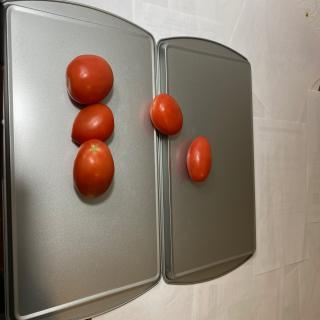Tomato: (72, 138, 114, 198), (65, 54, 114, 105), (71, 103, 115, 145), (149, 93, 183, 136), (186, 136, 212, 182)
